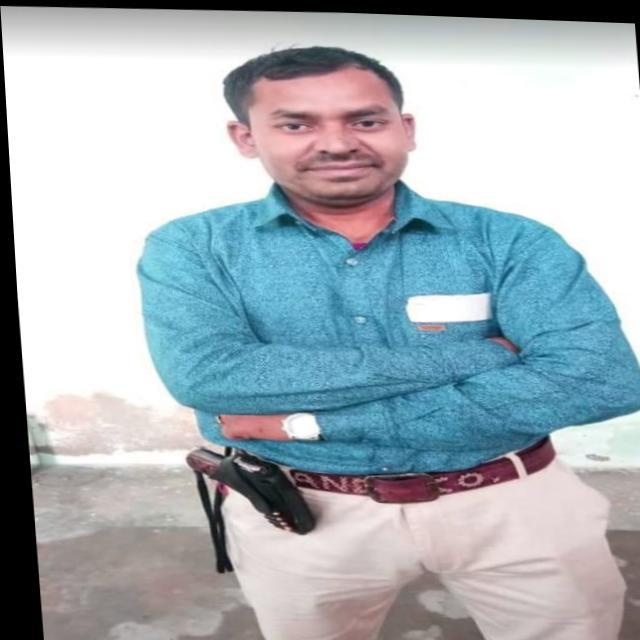weapon: (174, 441, 320, 538)
